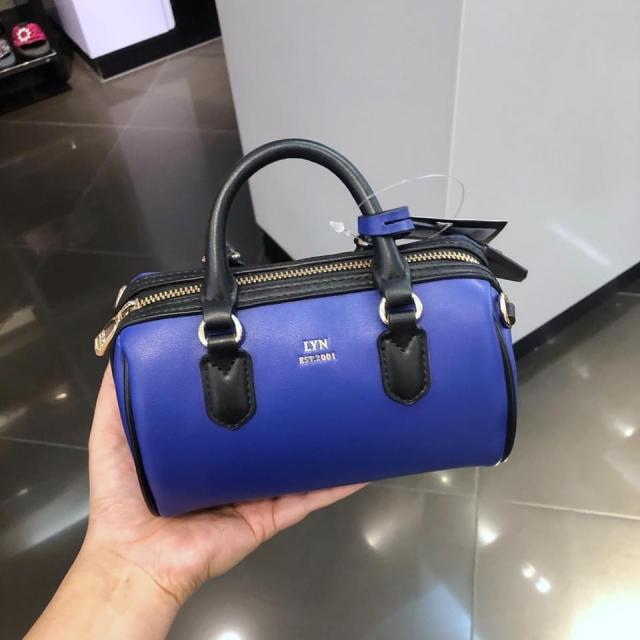Handbag: (81, 216, 530, 526)
